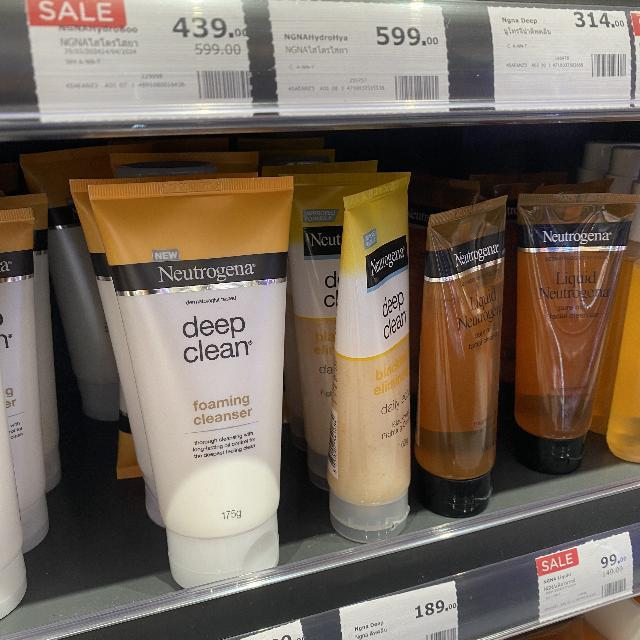Squeeze Tube: (51, 146, 640, 583)
